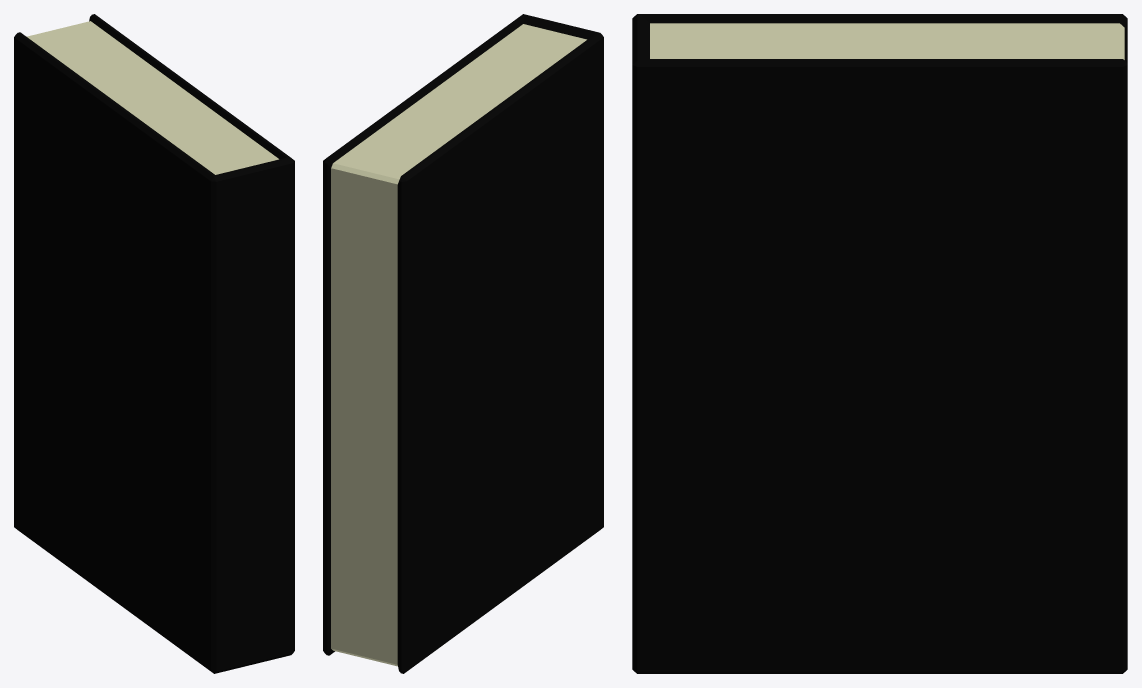
File: BOOK_07.fbx
3 views of the same model, side by side, from view 1: azimuth 30°, elevation 25°; view 2: azimuth 150°, elevation 25°; view 3: azimuth 270°, elevation 25° (orthographic). The views are drawn at different scales.
Visible parts, largest first — view 1: BOOK_07; view 2: BOOK_07; view 3: BOOK_07.
Part boxes in pixels (<box>): BOOK_07: <box>14,14,294,673</box>; BOOK_07: <box>323,14,603,673</box>; BOOK_07: <box>632,14,1127,673</box>.
Bounding box in the file's own units: 2.23 × 12.62 × 9.24.
